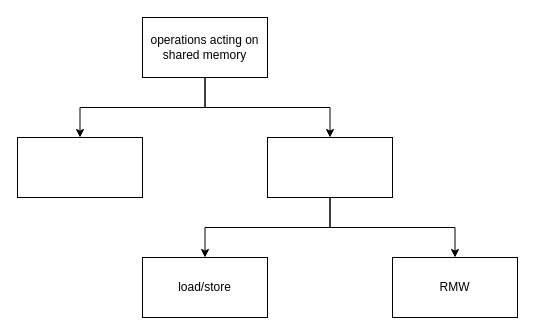
The diagram is 535 pixels wide and 335 high, and some of its shapes have lost their labels. The shapes that lost their labels are listed below. From the top down, each one's centre as x and y in pixels, then its label:
the point at 79,167: non-atomic operations
the point at 329,167: atomic operations
